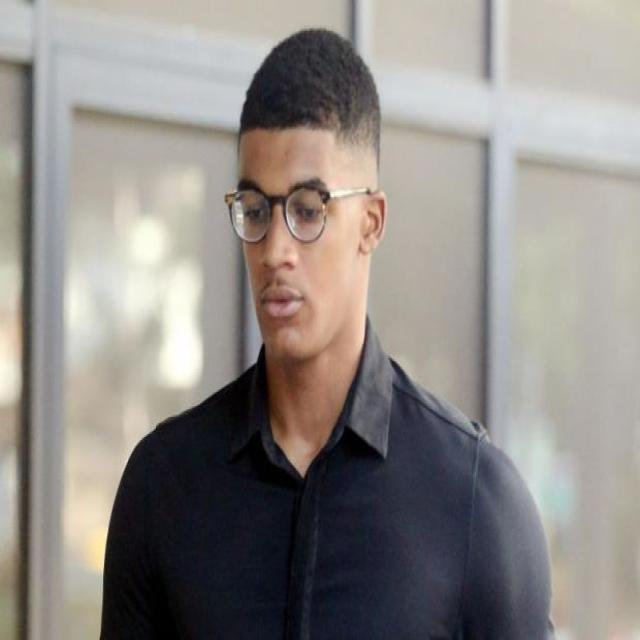mobile_phonerotation: (97, 25, 557, 638)
